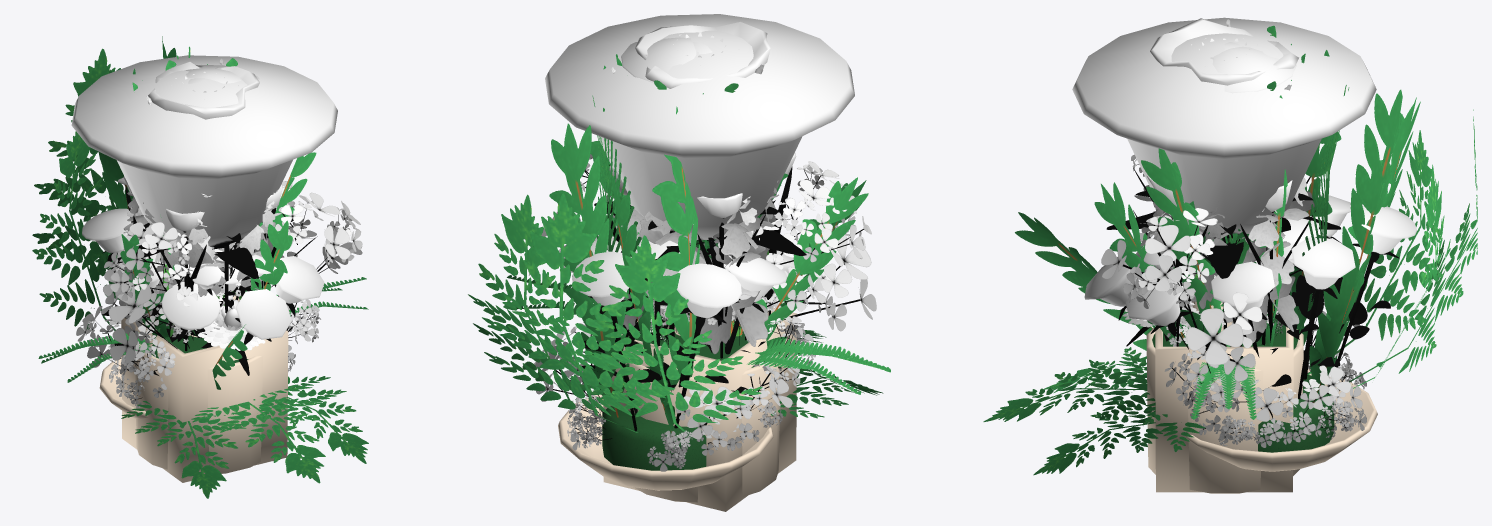
The model's file is flowers_kit.glb.
The picture shows the model from 3 angles, left to right: view 1: azimuth 30°, elevation 25°; view 2: azimuth 150°, elevation 25°; view 3: azimuth 270°, elevation 25°; orthographic projection. The views are drawn at different scales.
Visible parts, largest first — view 1: FlowerArr_9, Rose_Stem_C, FlowerArr_5, FlowerArr_7, FlowerArr_2, FlowerArr_1, Carnation_Stem, Rose_Stem_A; view 2: FlowerArr_9, Rose_Stem_C, FlowerArr_5, FlowerArr_7, Carnation_Stem, Rose_Stem_A, FlowerArr_1; view 3: FlowerArr_9, Rose_Stem_C, FlowerArr_5, FlowerArr_7, Carnation_Stem, Rose_Stem_A, FlowerArr_1.
Part boxes in pixels (x1,y1,x2,y2): FlowerArr_9: (32, 36, 368, 498); Rose_Stem_C: (71, 55, 337, 278); FlowerArr_5: (38, 46, 368, 473); FlowerArr_7: (121, 71, 288, 482); FlowerArr_2: (142, 64, 277, 337); FlowerArr_1: (132, 58, 274, 338); Carnation_Stem: (148, 62, 259, 119); Rose_Stem_A: (156, 65, 259, 285); FlowerArr_9: (468, 65, 883, 490); Rose_Stem_C: (545, 14, 854, 259); FlowerArr_5: (507, 95, 890, 502); FlowerArr_7: (603, 32, 796, 511); Carnation_Stem: (635, 22, 770, 88); Rose_Stem_A: (607, 37, 762, 314); FlowerArr_1: (616, 54, 778, 259); FlowerArr_9: (983, 50, 1477, 475); Rose_Stem_C: (1072, 17, 1376, 278); FlowerArr_5: (1101, 85, 1349, 493); FlowerArr_7: (1133, 38, 1315, 492); Carnation_Stem: (1150, 18, 1298, 85); Rose_Stem_A: (1212, 46, 1296, 232); FlowerArr_1: (1143, 25, 1305, 311).
Bounding box in the file's own units: 0.9535 × 1 × 1.1.
Materials: 10 (10 with a texture image).
